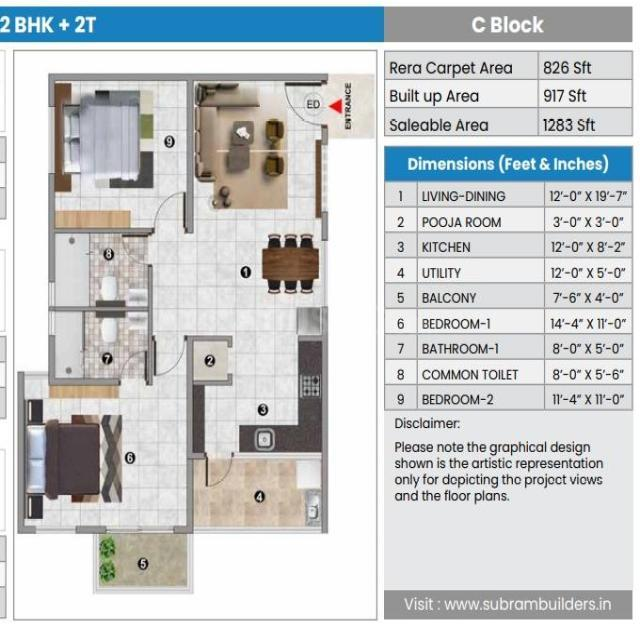Balcony-Sitout: (96, 529, 190, 590)
Bedroom: (23, 385, 186, 525), (56, 82, 185, 226)
Dining: (260, 232, 319, 297)
Enterance-Foyer: (284, 81, 332, 128)
Kitchen: (193, 338, 324, 454)
Living: (194, 85, 321, 214)
Toilet: (56, 233, 194, 304), (56, 308, 192, 378)
Utility: (194, 461, 323, 528)
